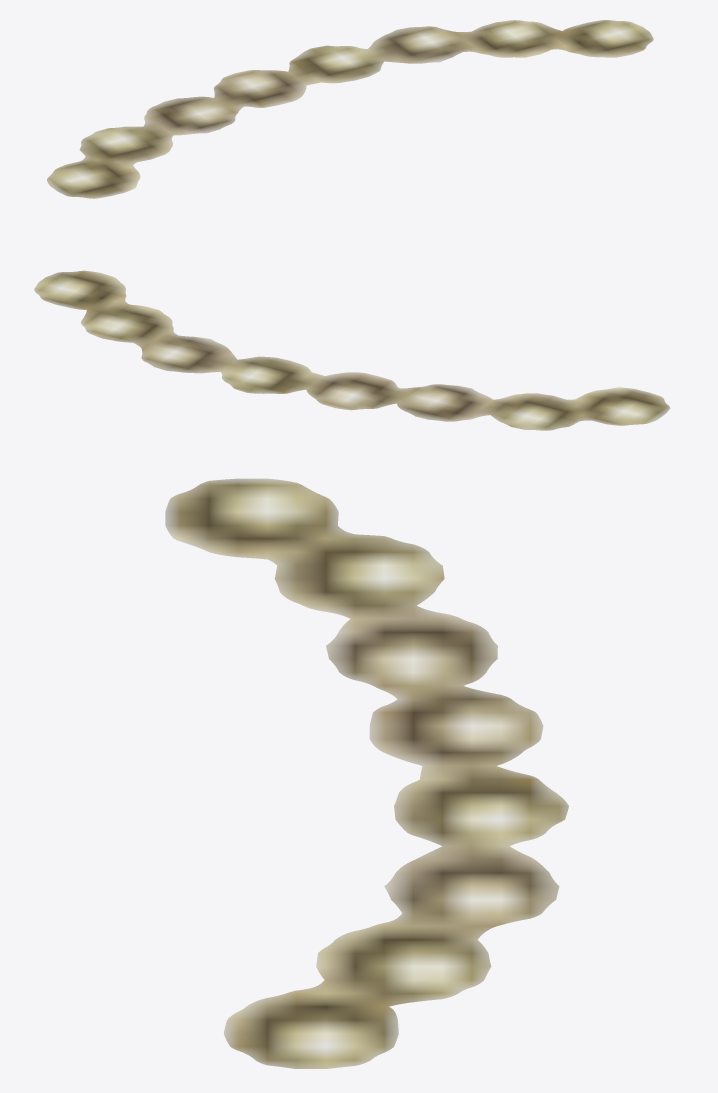
Rendered from giftgoods103a.fbx.
3 renders of one model, top to bottom at view 1: azimuth 30°, elevation 25°; view 2: azimuth 150°, elevation 25°; view 3: azimuth 270°, elevation 25°, orthographic. The views are drawn at different scales.
Parts seen in each view (by area): view 1: giftgoods103a; view 2: giftgoods103a; view 3: giftgoods103a.
Boxes of the visible parts, <box> form: giftgoods103a: <box>47,20,653,198</box>; giftgoods103a: <box>34,270,670,430</box>; giftgoods103a: <box>165,478,568,1068</box>.
Size of the model in its own units: 0.1591 by 0 by 0.0521.
